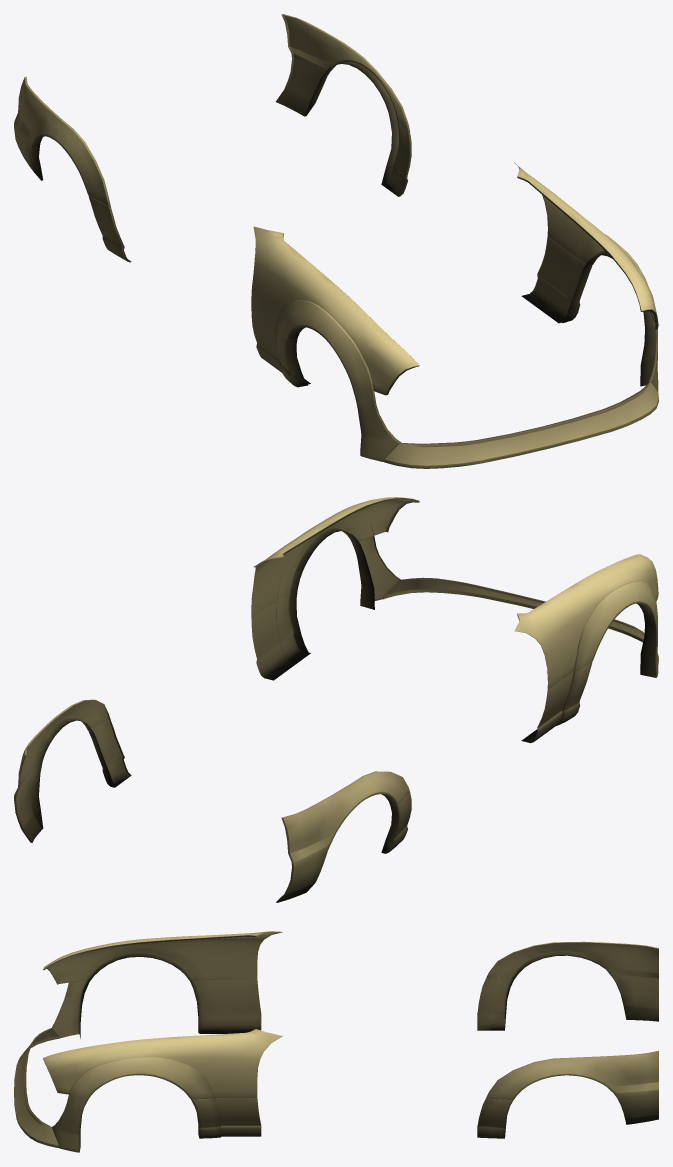
Rendered from MX5_Fender03_Duco.fbx.
3 renders of one model, top to bottom at view 1: azimuth 30°, elevation 25°; view 2: azimuth 150°, elevation 25°; view 3: azimuth 270°, elevation 25°, orthographic. The views are drawn at different scales.
Visible parts, largest first — view 1: MX5_Fender03_Duco; view 2: MX5_Fender03_Duco; view 3: MX5_Fender03_Duco.
Boxes of the visible parts, box(x1,y1,x2,y2) form: MX5_Fender03_Duco: box(14, 14, 658, 468); MX5_Fender03_Duco: box(14, 497, 658, 902); MX5_Fender03_Duco: box(14, 931, 658, 1152).
Bounding box in the file's own units: 165 × 69.35 × 364.
